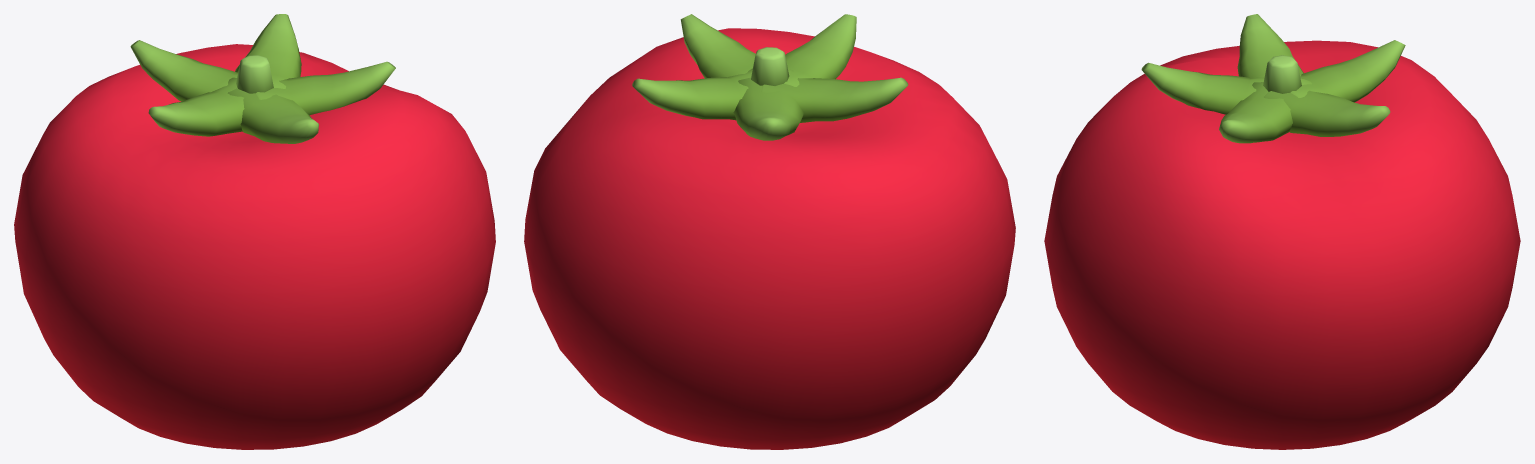
Rendered from Tomato.fbx.
3 renders of one model, left to right at view 1: azimuth 30°, elevation 25°; view 2: azimuth 150°, elevation 25°; view 3: azimuth 270°, elevation 25°, orthographic. The views are drawn at different scales.
Parts seen in each view (by area): view 1: Tomato; view 2: Tomato; view 3: Tomato.
Boxes of the visible parts, x1,y1,x2,y2 form: Tomato: (14, 14, 495, 449); Tomato: (524, 14, 1015, 449); Tomato: (1044, 14, 1520, 449).
Size of the model in its own units: 12.68 by 9.75 by 12.48.
